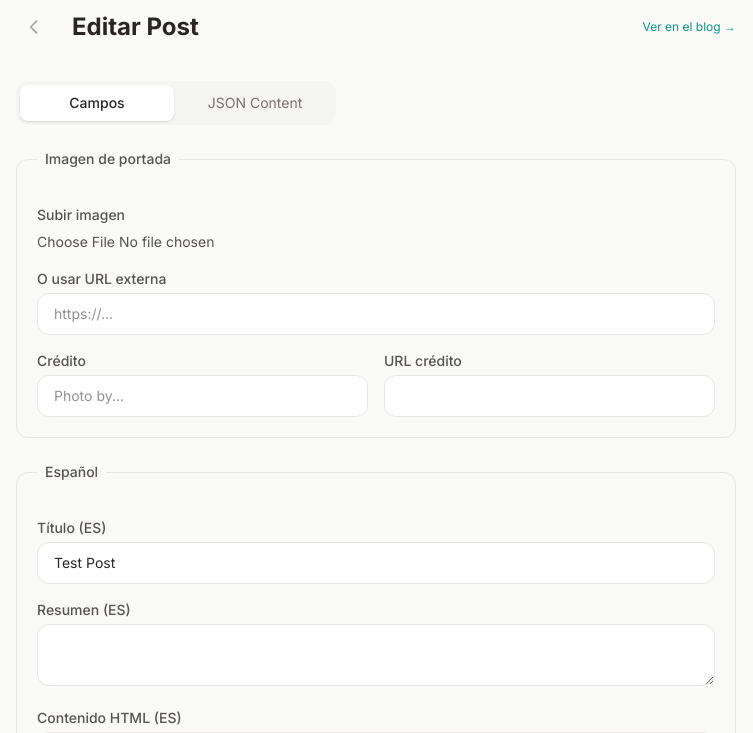
AdminBlogEditPage › switches to JSON Content tab when clicked
This screenshot has width=753, height=733.
Click the button "JSON Content": click(255, 103) [178, 85, 332, 121]
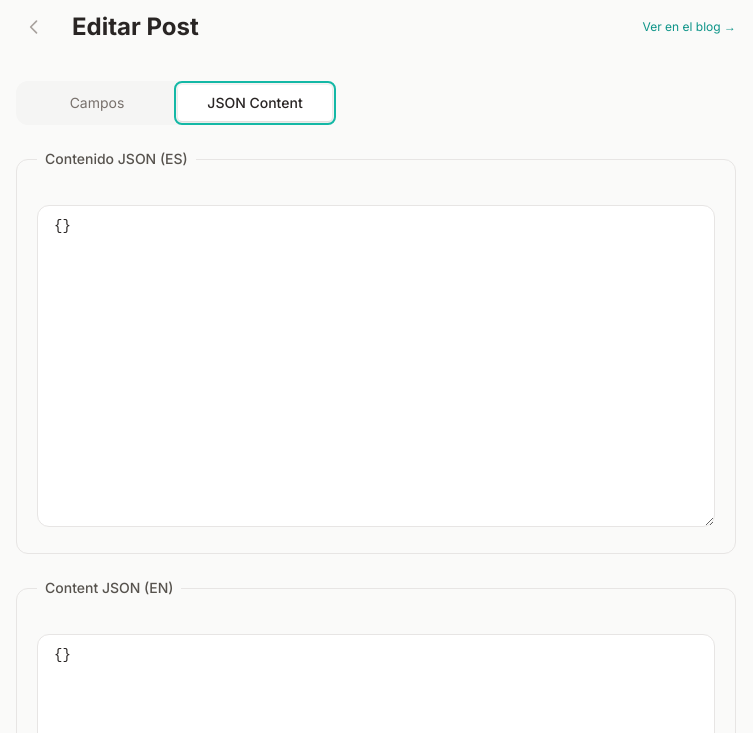
Expected: the field labelled "Título (ES)" is not shown
Expected: the text "Contenido JSON (ES)" is shown, [37, 149, 196, 169]
